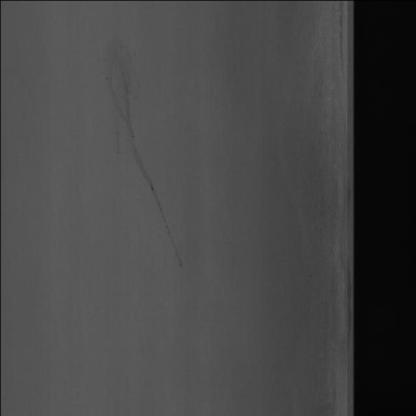water_spot: (107, 49, 206, 268)
